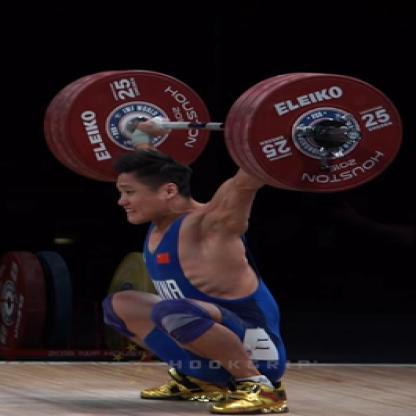Barbell: (222, 64, 415, 203)
